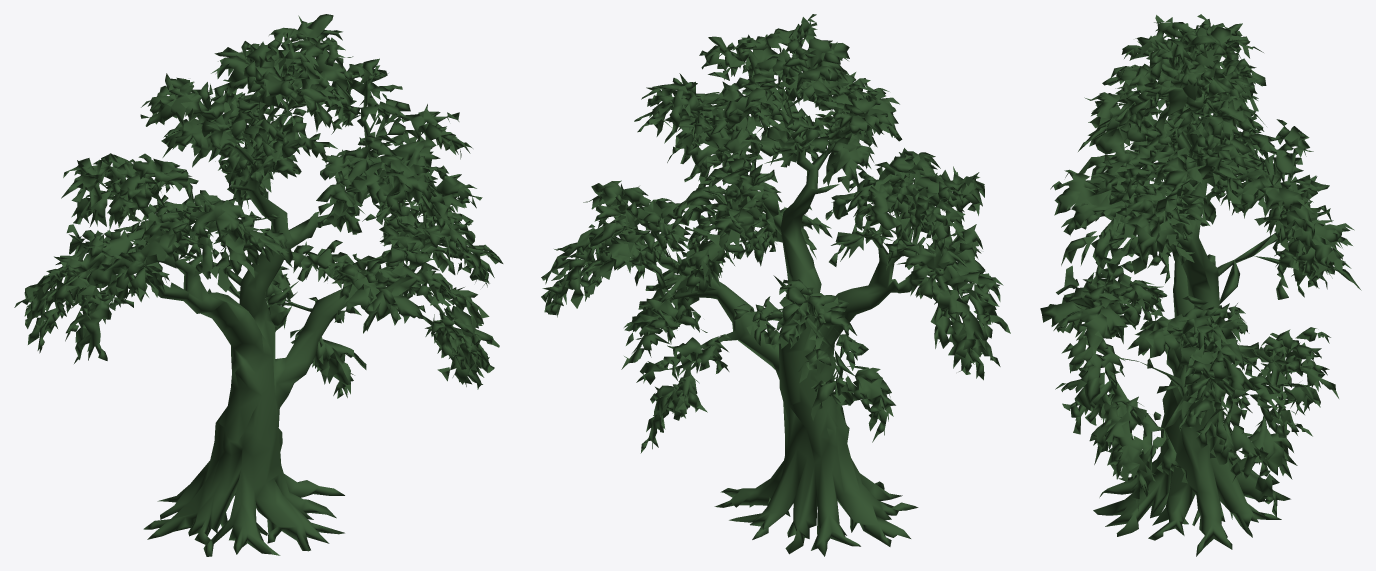
Rendered from gen-tree-broadleaf-green-1.glb.
3 renders of one model, left to right at view 1: azimuth 30°, elevation 25°; view 2: azimuth 150°, elevation 25°; view 3: azimuth 270°, elevation 25°, orthographic. The views are drawn at different scales.
Visible parts, largest first — view 1: gen-tree-broadleaf-green-1_part1; view 2: gen-tree-broadleaf-green-1_part1; view 3: gen-tree-broadleaf-green-1_part1.
Part boxes in pixels (x1,y1,x2,y2): gen-tree-broadleaf-green-1_part1: [14, 14, 503, 556]; gen-tree-broadleaf-green-1_part1: [541, 14, 1010, 556]; gen-tree-broadleaf-green-1_part1: [1040, 14, 1361, 556].
Size of the model in its own units: 7158 by 7000 by 4060.
